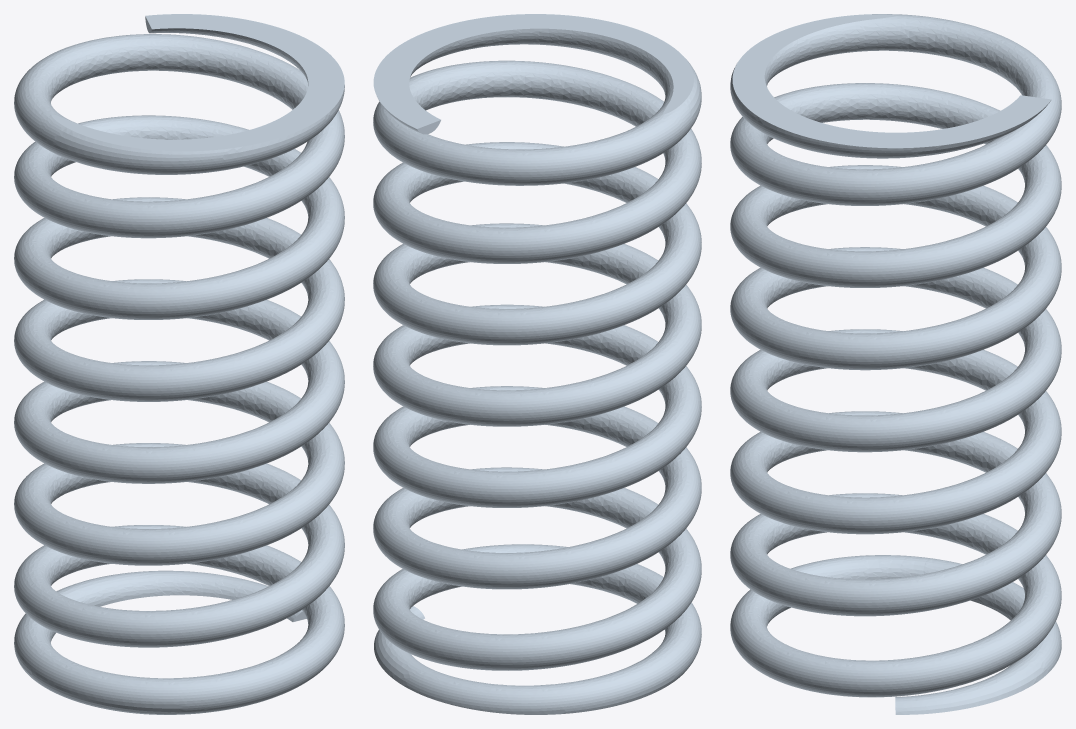
The model's file is t1_din2095_spring_agy.glb.
3 views of the same model, side by side, from view 1: azimuth 30°, elevation 25°; view 2: azimuth 150°, elevation 25°; view 3: azimuth 270°, elevation 25° (orthographic).
Parts seen in each view (by area): view 1: helical_spring; view 2: helical_spring; view 3: helical_spring.
Part boxes in pixels (<box>): helical_spring: <box>14,14,344,714</box>; helical_spring: <box>373,14,701,714</box>; helical_spring: <box>730,14,1061,714</box>.
Bounding box in the file's own units: 0.036 × 0.068 × 0.036.
